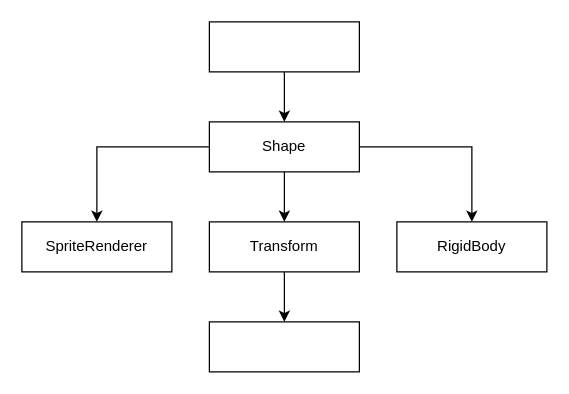
Image size: 569x394. Some labels were removed from this diagram. Each missing label, with the centre of its shape:
Collider: the point at 283,346
GameObject: the point at 283,46
